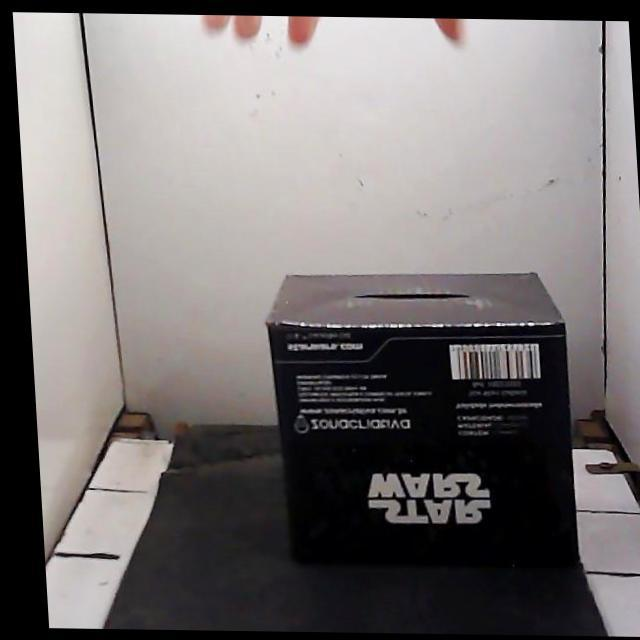papel: (266, 274, 576, 565)
